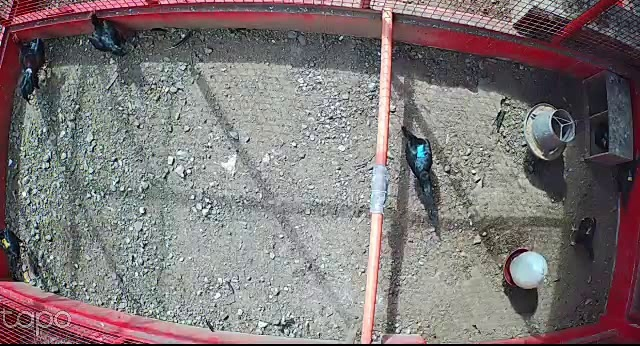Chicken: (397, 122, 440, 208), (85, 9, 129, 58), (612, 148, 640, 219), (0, 217, 29, 285), (565, 212, 601, 265)
Drinker: (503, 247, 550, 291)
Feeder: (522, 99, 579, 163)
Rooster: (12, 27, 56, 107)
Saddle_Color_Blue: (416, 145, 426, 158)
Saddle_Color_Yellow: (1, 237, 11, 248)
